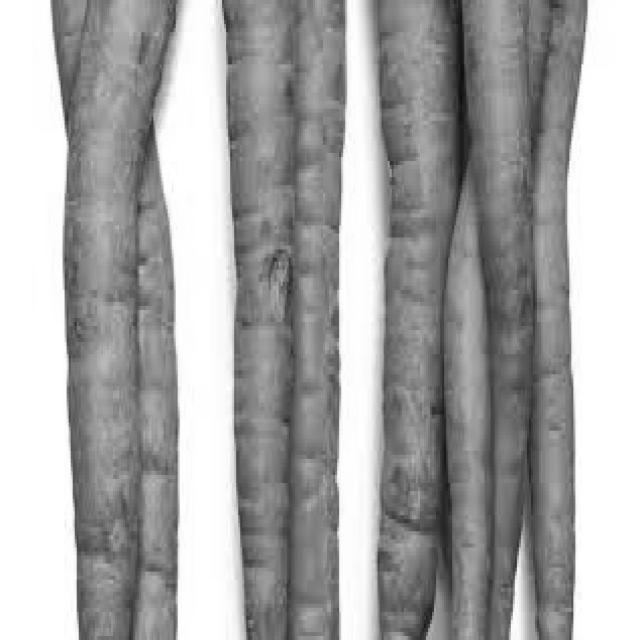Stale_Carrot: (50, 0, 136, 640), (461, 0, 538, 638), (220, 4, 287, 640), (371, 0, 435, 638)
